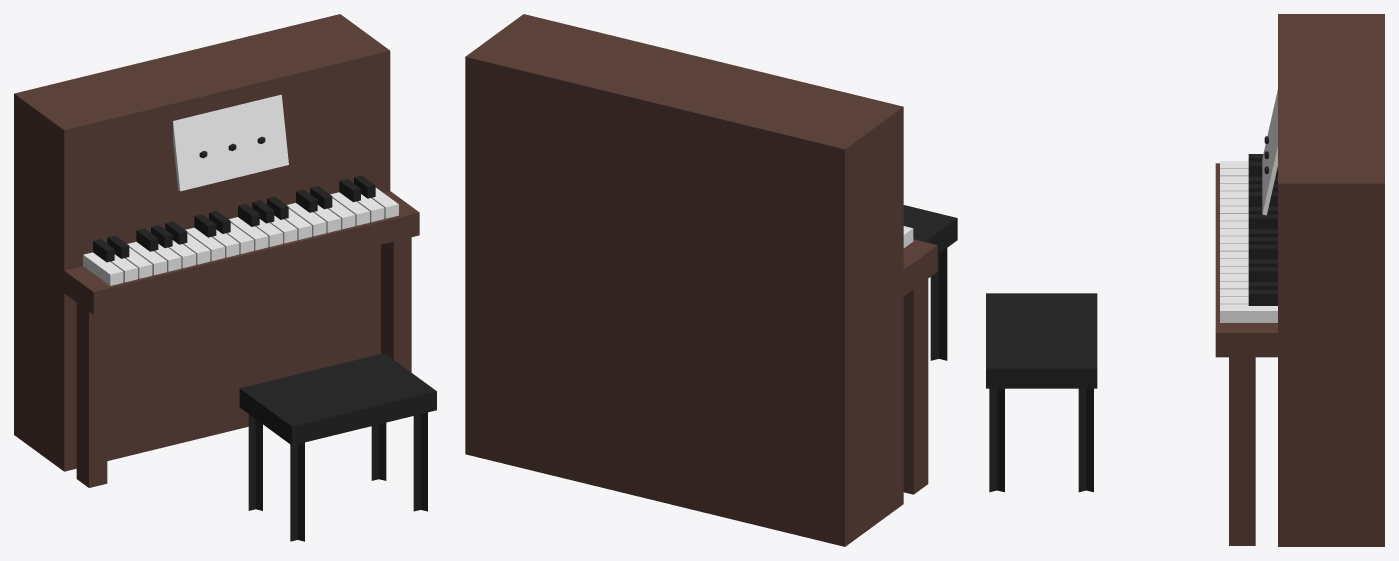
File: piano.glb
The picture shows the model from 3 angles, left to right: view 1: azimuth 30°, elevation 25°; view 2: azimuth 150°, elevation 25°; view 3: azimuth 270°, elevation 25°; orthographic projection. The views are drawn at different scales.
Parts seen in each view (by area): view 1: piano; view 2: piano; view 3: piano.
Boxes of the visible parts, x1,y1,x2,y2 form: piano: [14, 14, 436, 541]; piano: [465, 14, 957, 546]; piano: [986, 14, 1384, 546].
Bounding box in the file's own units: 0.9 × 0.9 × 0.8949.
